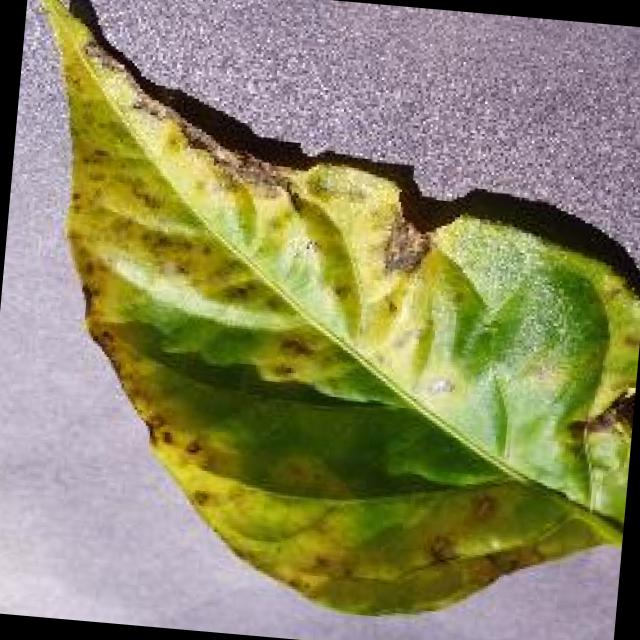Chilli_Bacterial_Spot: (0, 0, 640, 640), (568, 373, 634, 534), (374, 212, 434, 277), (594, 382, 632, 452), (419, 528, 462, 570)
